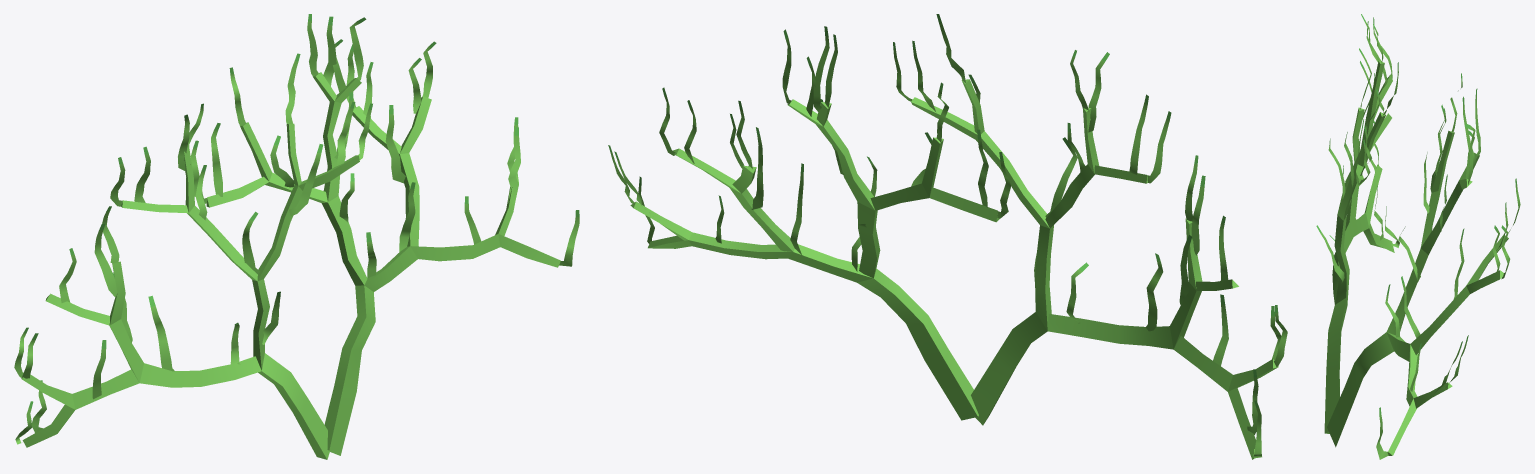
The model's file is coral_A_medium.fbx.
The picture shows the model from 3 angles, left to right: view 1: azimuth 30°, elevation 25°; view 2: azimuth 150°, elevation 25°; view 3: azimuth 270°, elevation 25°; orthographic projection. The views are drawn at different scales.
Parts seen in each view (by area): view 1: coral_A_medium; view 2: coral_A_medium; view 3: coral_A_medium.
Part boxes in pixels (bbox=[...]): coral_A_medium: bbox=[14, 14, 579, 459]; coral_A_medium: bbox=[608, 14, 1287, 459]; coral_A_medium: bbox=[1316, 14, 1520, 459].
Size of the model in its own units: 163 by 105 by 51.16.
